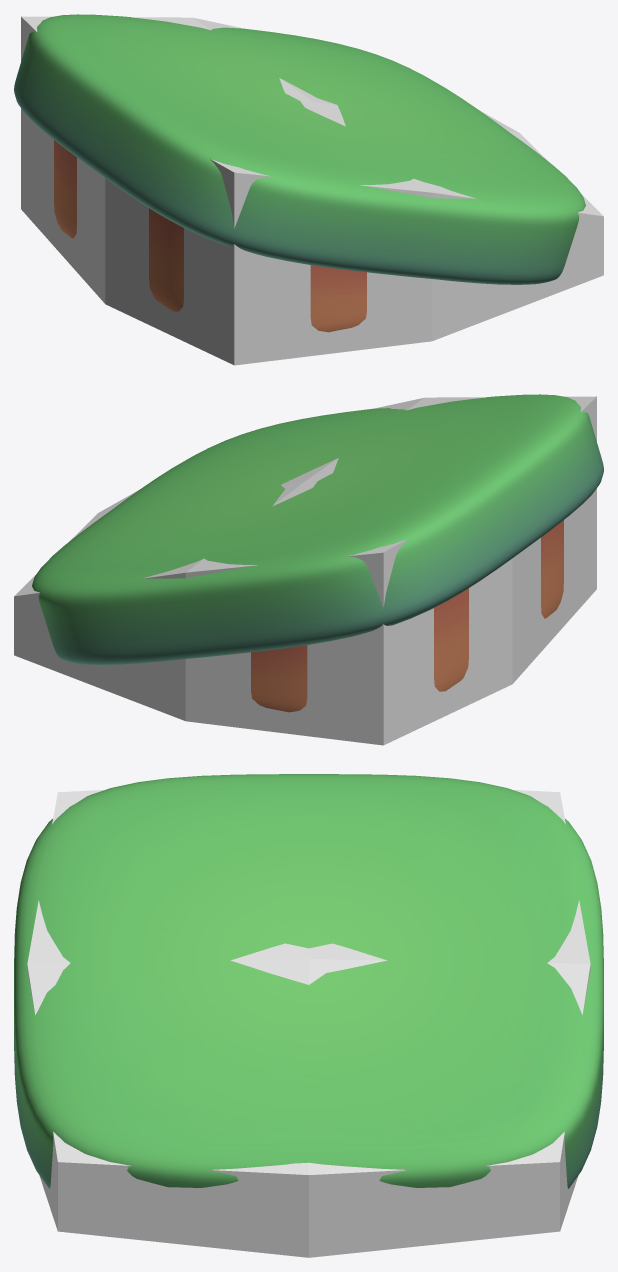
Rendered from SlantBigLow.glb.
The picture shows the model from 3 angles, top to bottom: view 1: azimuth 30°, elevation 25°; view 2: azimuth 150°, elevation 25°; view 3: azimuth 270°, elevation 25°; orthographic projection. The views are drawn at different scales.
Visible parts, largest first — view 1: SlantBigLow, colision-colonly.009; view 2: SlantBigLow, colision-colonly.009; view 3: SlantBigLow, colision-colonly.009.
Part boxes in pixels (x1,y1,x2,y2): SlantBigLow: (14,14,585,332); colision-colonly.009: (21,16,603,365); SlantBigLow: (32,394,603,712); colision-colonly.009: (14,396,596,745); SlantBigLow: (14,774,603,1188); colision-colonly.009: (27,790,590,1257).
Size of the model in its own units: 3.99 by 1.87 by 4.
Materials: 1 (1 with a texture image).
